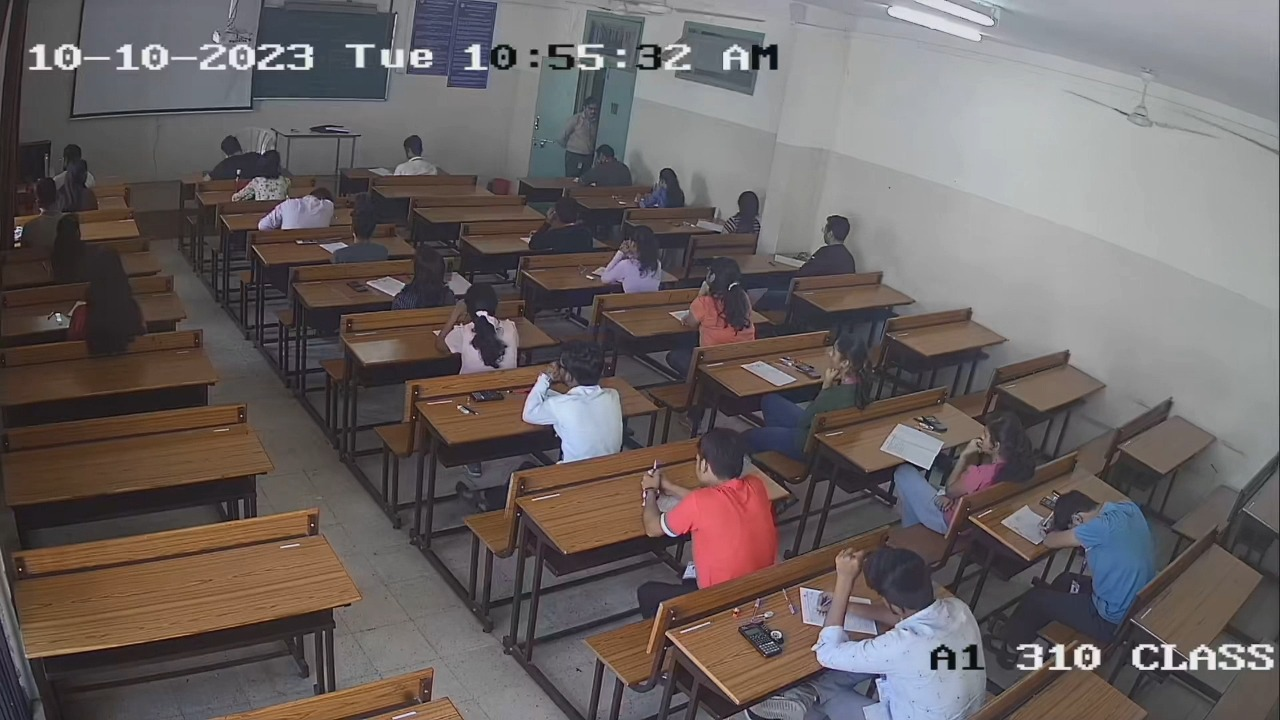cell-phones: (738, 622, 783, 658), (467, 389, 507, 404), (795, 359, 821, 381), (924, 415, 948, 434), (345, 279, 369, 295)
person: (810, 549, 983, 720), (514, 341, 625, 460), (942, 411, 1037, 496), (798, 334, 877, 411), (390, 248, 455, 310)
